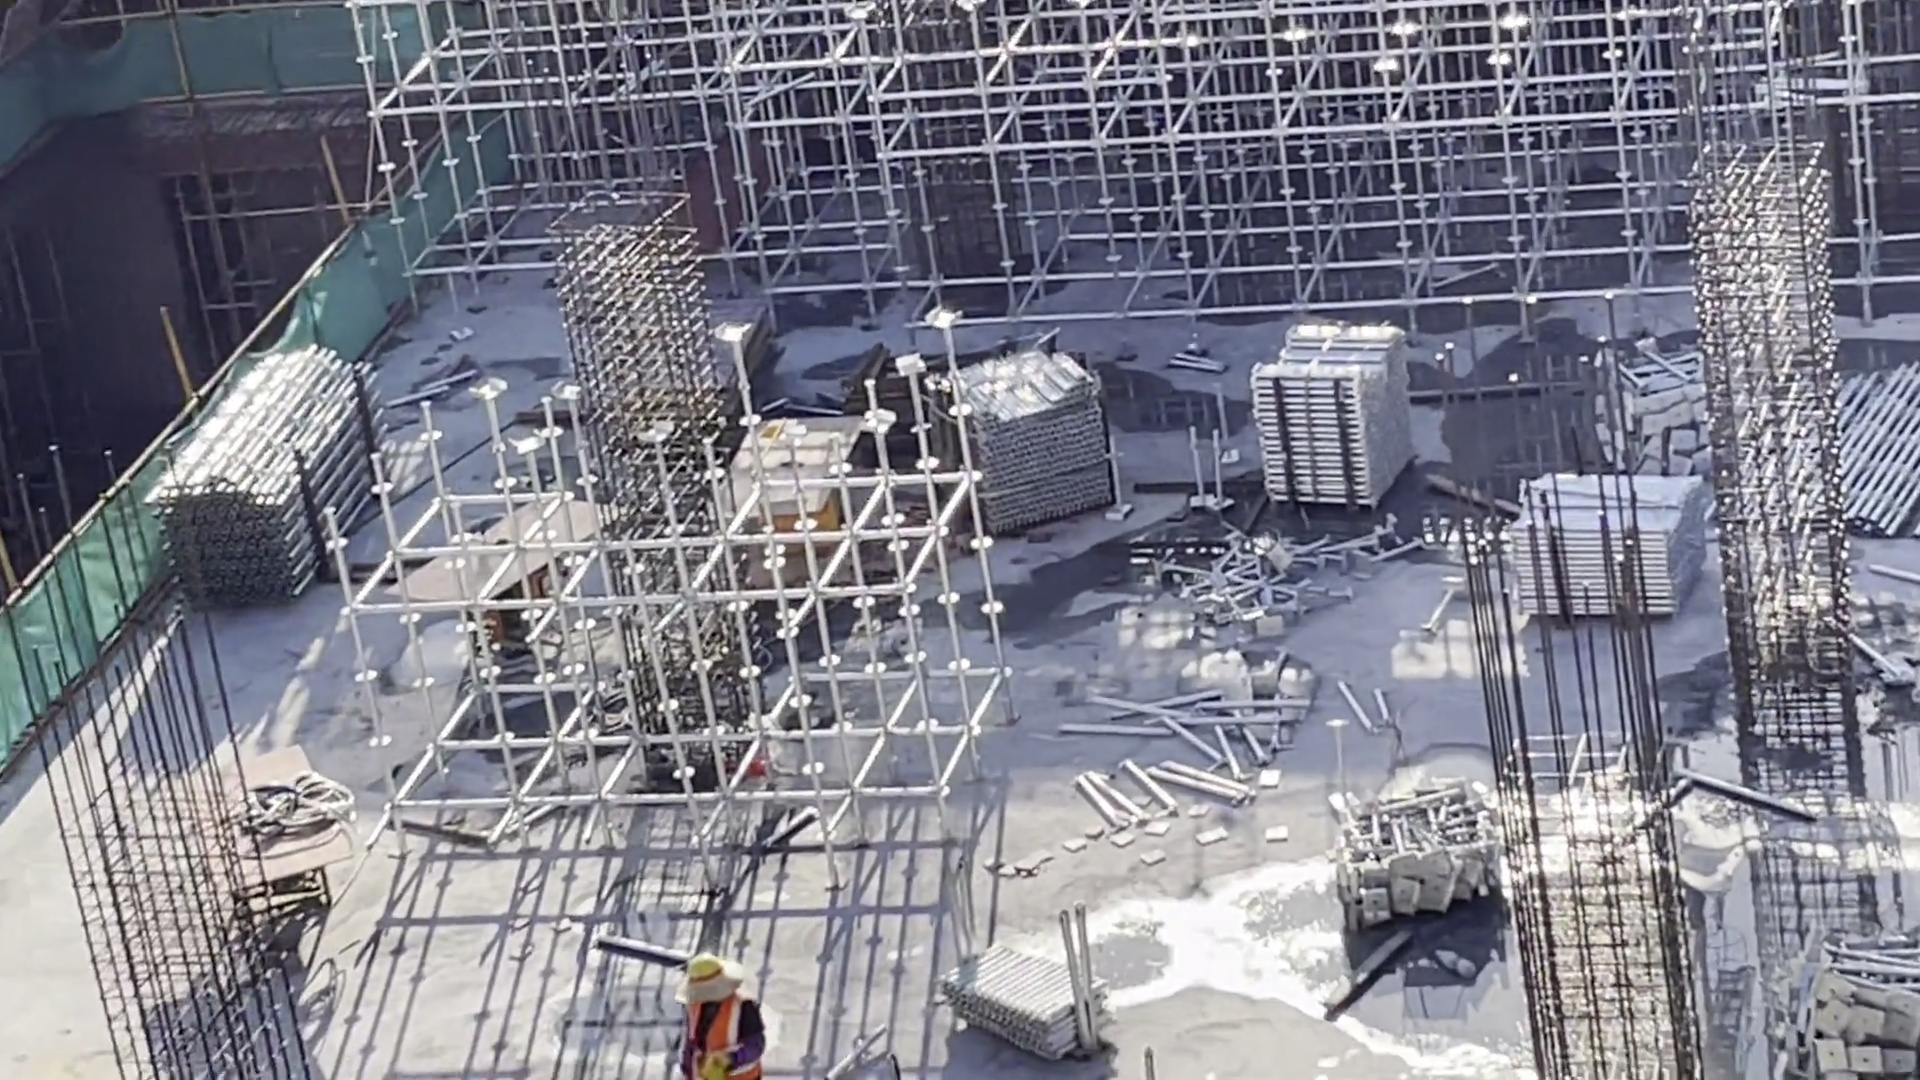helmet: (679, 954, 739, 995)
person: (662, 953, 771, 1080)
scaffold: (153, 346, 404, 607), (924, 341, 1122, 534), (1238, 311, 1421, 509), (1499, 465, 1703, 620)
vest: (679, 1004, 755, 1069)
